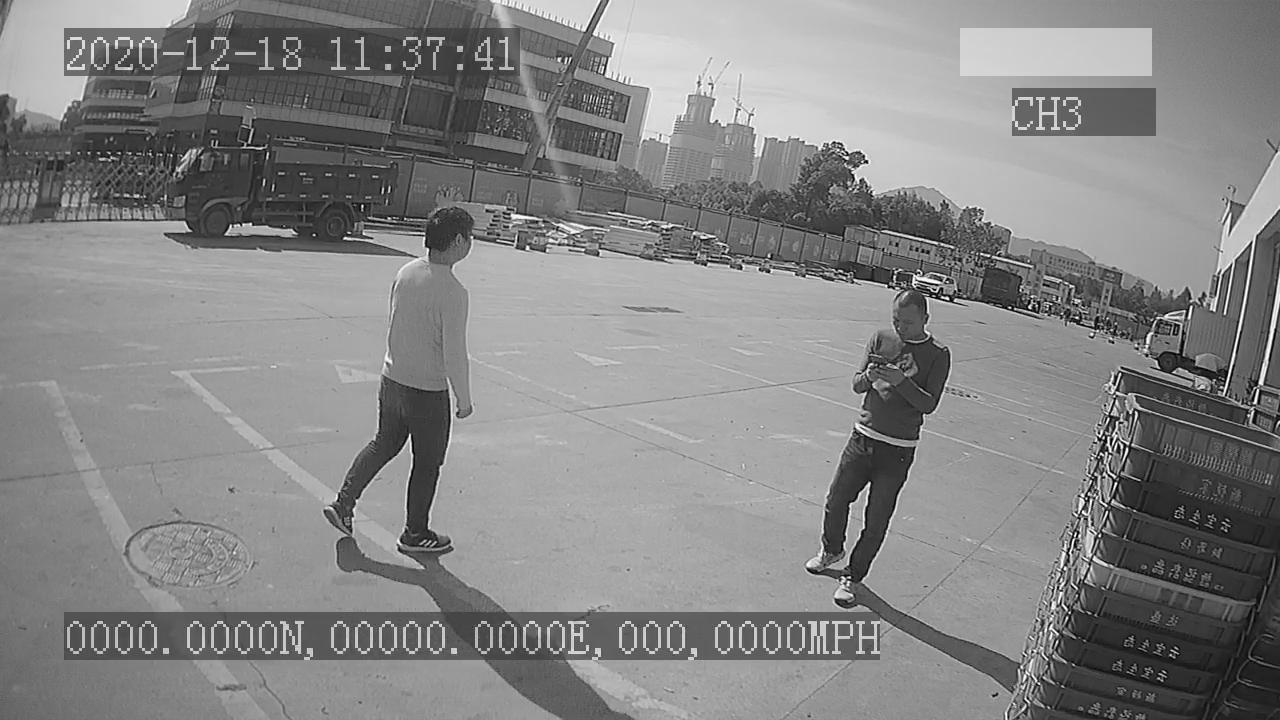person: (800, 286, 954, 601)
